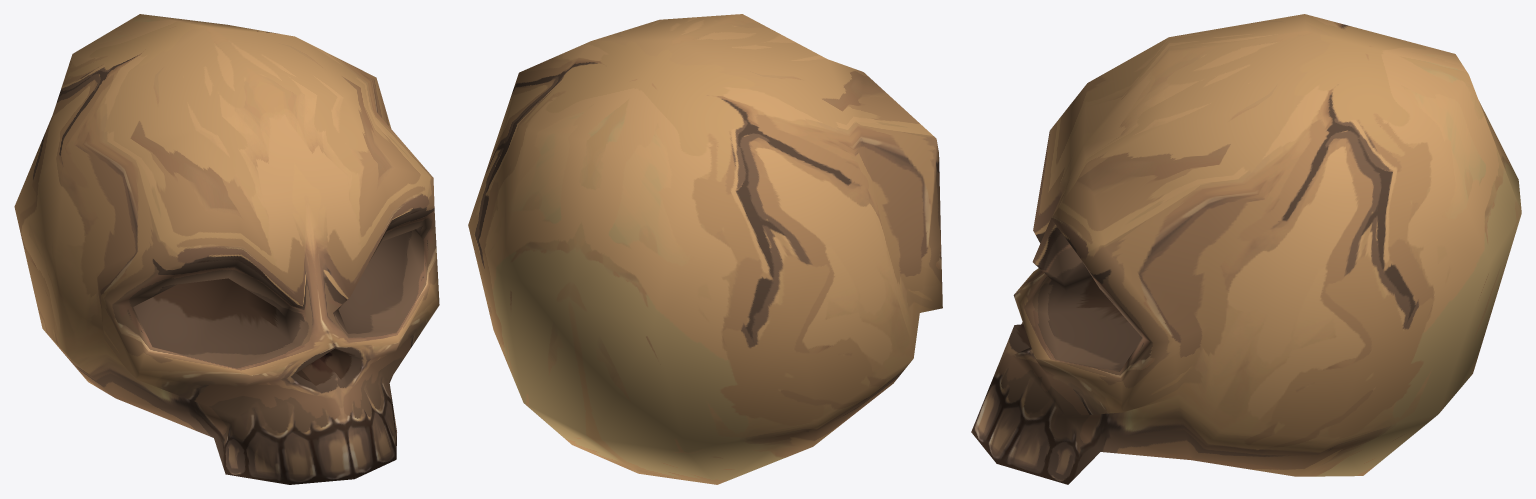
File: SM_PROP_skeleton_skull_dungeon.fbx
The picture shows the model from 3 angles, left to right: view 1: azimuth 30°, elevation 25°; view 2: azimuth 150°, elevation 25°; view 3: azimuth 270°, elevation 25°; orthographic projection. The views are drawn at different scales.
Visible parts, largest first — view 1: SM_PROP_skeleton_skull_dungeon; view 2: SM_PROP_skeleton_skull_dungeon; view 3: SM_PROP_skeleton_skull_dungeon.
Part boxes in pixels (x1=…): SM_PROP_skeleton_skull_dungeon: x1=14, y1=14, x2=439, y2=484; SM_PROP_skeleton_skull_dungeon: x1=468, y1=14, x2=942, y2=484; SM_PROP_skeleton_skull_dungeon: x1=971, y1=14, x2=1521, y2=484.
Size of the model in its own units: 23.17 by 22.38 by 27.11.
